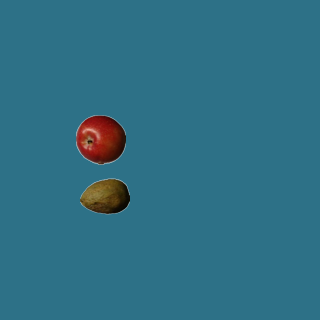Apple Braeburn: (75, 114, 125, 164)
Papaya: (79, 171, 129, 221)
